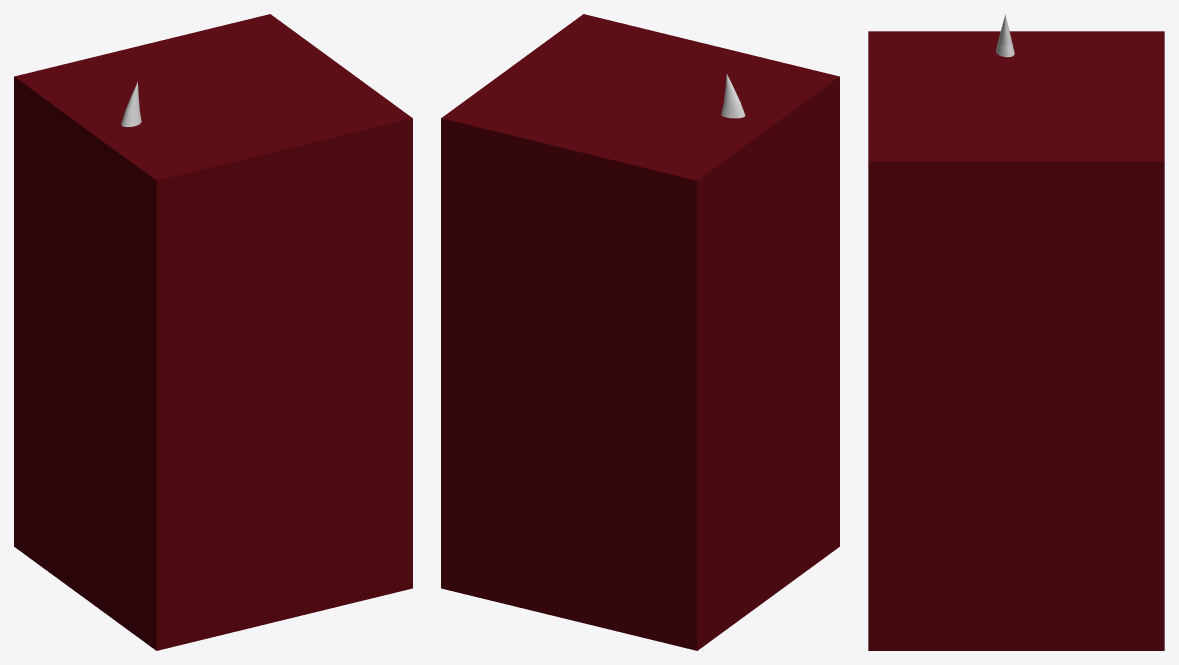
The model's file is CapsuleEnemy.gltf.
3 views of the same model, side by side, from view 1: azimuth 30°, elevation 25°; view 2: azimuth 150°, elevation 25°; view 3: azimuth 270°, elevation 25° (orthographic). The views are drawn at different scales.
Parts seen in each view (by area): view 1: Cube; view 2: Cube, Horn1; view 3: Cube, Horn1.
Boxes of the visible parts, x1=… form: Cube: x1=14, y1=14, x2=412, y2=650; Cube: x1=441, y1=14, x2=839, y2=650; Horn1: x1=721, y1=74, x2=745, y2=118; Cube: x1=868, y1=31, x2=1164, y2=650; Horn1: x1=996, y1=14, x2=1014, y2=57.
Bounding box in the file's own units: 2 × 3.8 × 1.93.
